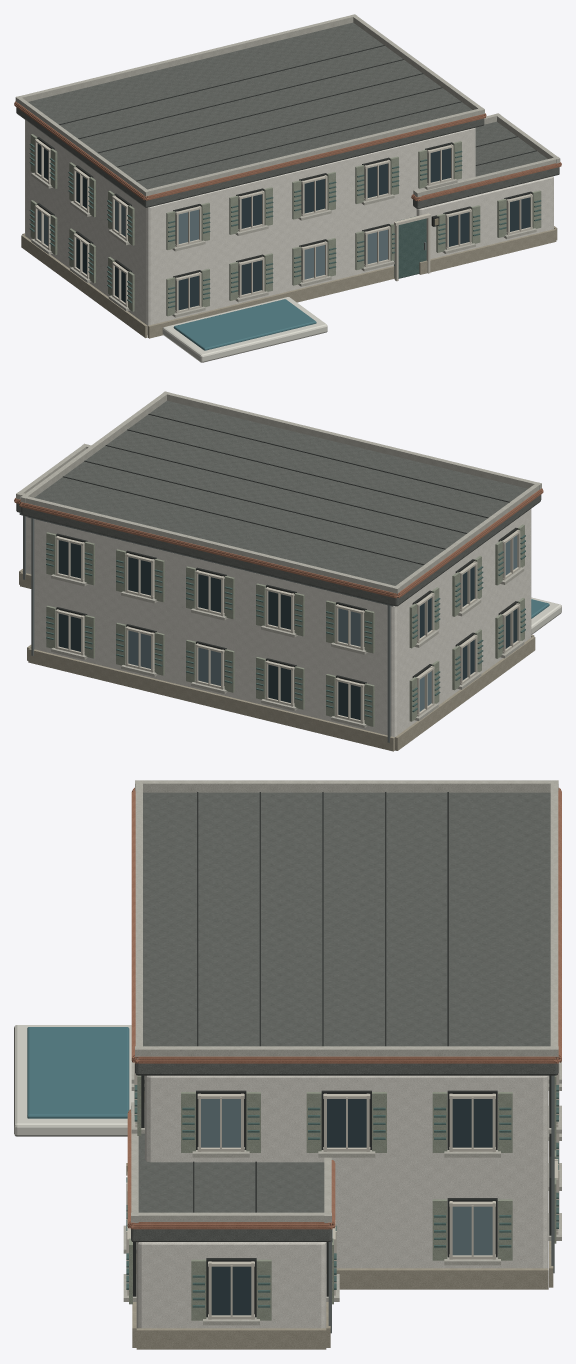
File: RES_LUX_3x2_004.glb
3 renders of one model, top to bottom at view 1: azimuth 30°, elevation 25°; view 2: azimuth 150°, elevation 25°; view 3: azimuth 270°, elevation 25°, orthographic. The views are drawn at different scales.
Visible parts, largest first — view 1: RES_LUX_3x2_004_Visual; view 2: RES_LUX_3x2_004_Visual; view 3: RES_LUX_3x2_004_Visual.
Boxes of the visible parts, x1=… form: RES_LUX_3x2_004_Visual: x1=14, y1=14, x2=561, y2=362; RES_LUX_3x2_004_Visual: x1=14, y1=391, x2=561, y2=751; RES_LUX_3x2_004_Visual: x1=14, y1=780, x2=561, y2=1349.
Size of what is drawn, in the model's own units: 4.77 by 1.62 by 3.33.
Materials: 15 (7 with a texture image).
